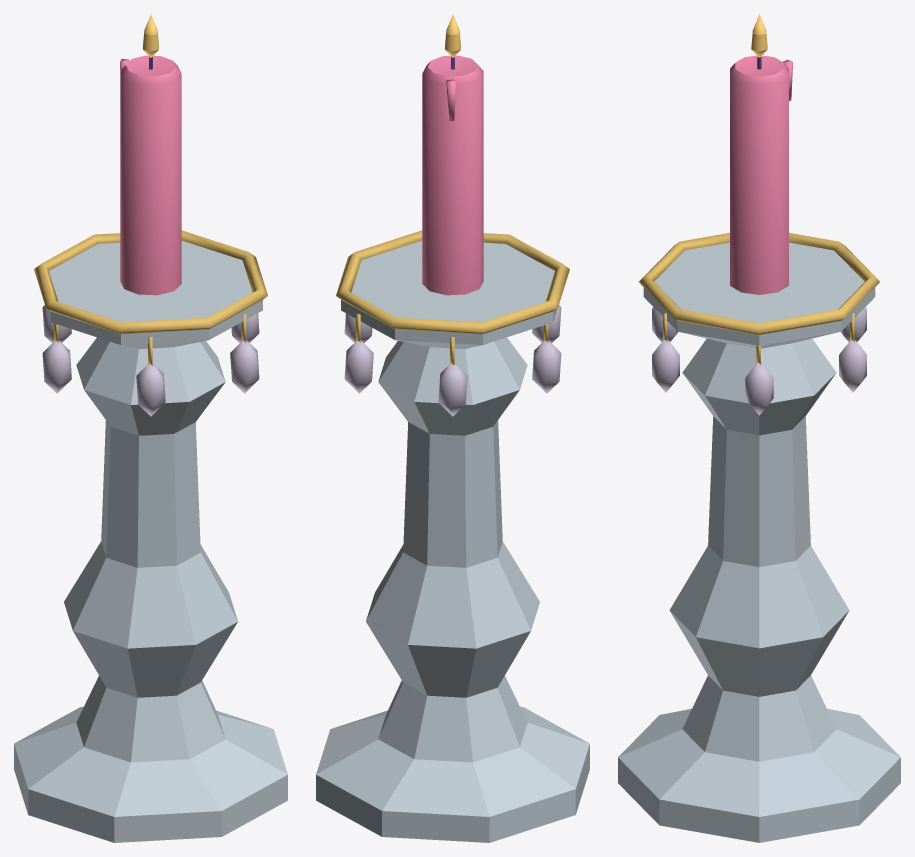
Rendered from candlestick_crystal.glb.
3 views of the same model, side by side, from view 1: azimuth 30°, elevation 25°; view 2: azimuth 150°, elevation 25°; view 3: azimuth 270°, elevation 25° (orthographic).
Visible parts, largest first — view 1: candlestick_crystal; view 2: candlestick_crystal; view 3: candlestick_crystal.
Part boxes in pixels (bbox=[...]): candlestick_crystal: bbox=[14, 14, 287, 842]; candlestick_crystal: bbox=[316, 14, 589, 842]; candlestick_crystal: bbox=[618, 14, 900, 842].
Size of what is drawn, in the model's own units: 0.12 by 0.36 by 0.12.
